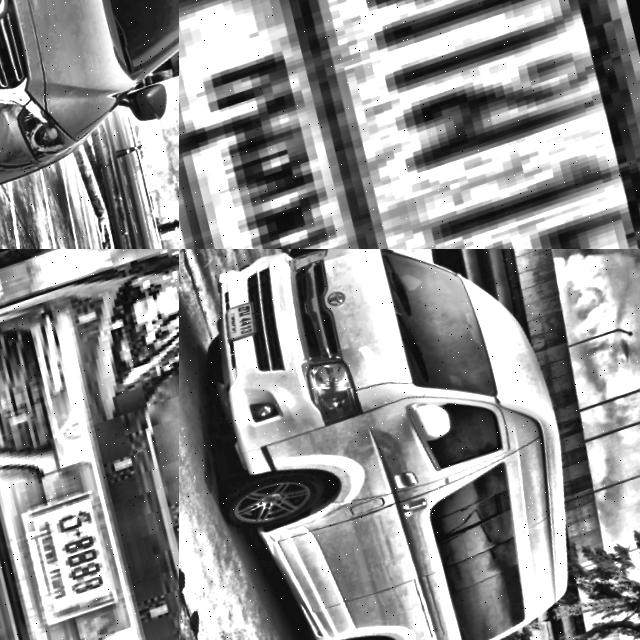license-plate: (179, 0, 640, 249), (15, 485, 127, 631), (220, 302, 264, 346)
